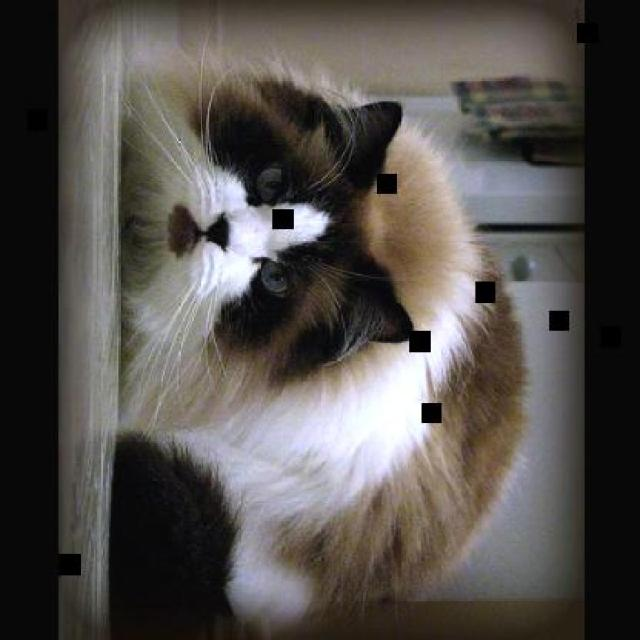unauthorized: (63, 7, 531, 638)
